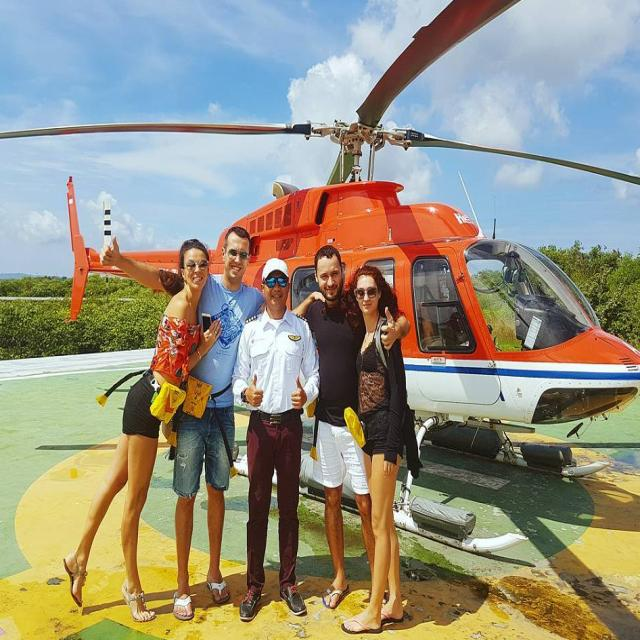helicopter: (42, 17, 640, 574)
